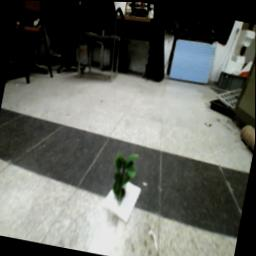herb: (108, 147, 143, 209)
